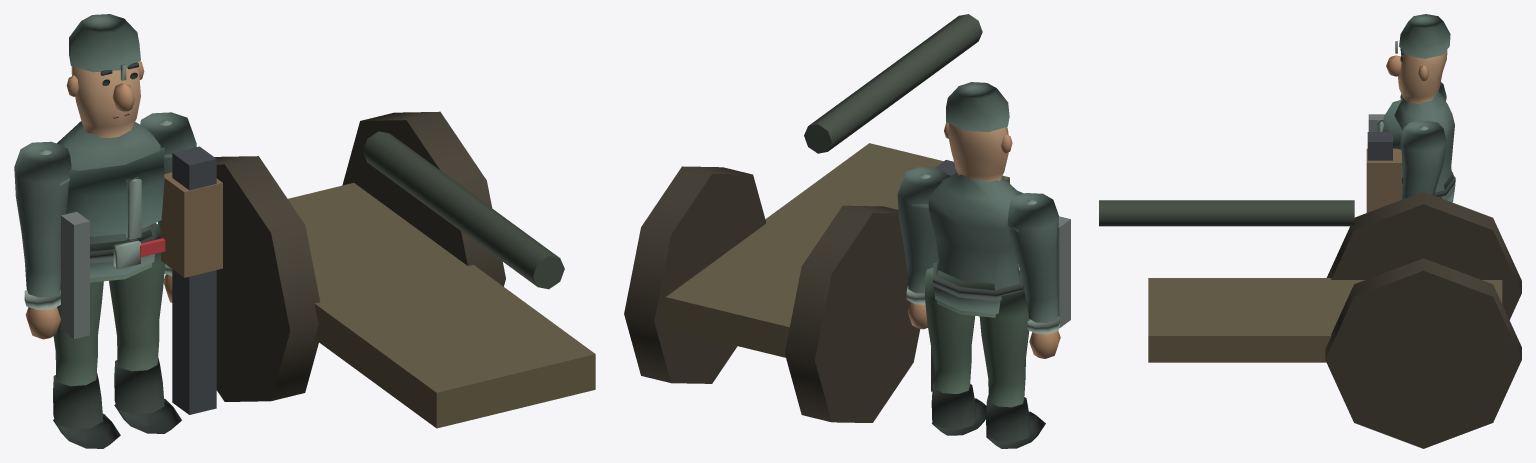
The model's file is machinegun_team_team1.glb.
The picture shows the model from 3 angles, left to right: view 1: azimuth 30°, elevation 25°; view 2: azimuth 150°, elevation 25°; view 3: azimuth 270°, elevation 25°; orthographic projection. The views are drawn at different scales.
Visible parts, largest first — view 1: part_10, part_11, part_0, part_12, part_13, part_2, part_8, part_5, part_1, part_7, part_6, part_3 (+1 smaller); view 2: part_11, part_10, part_12, part_0, part_13, part_7, part_2, part_8, part_1, part_4, part_3; view 3: part_12, part_10, part_11, part_13, part_1, part_4, part_0, part_6, part_5.
Boxes of the visible parts, left/top/right/bottom form: part_10: left=288, top=183, right=595, bottom=428; part_11: left=214, top=156, right=320, bottom=401; part_0: left=57, top=121, right=164, bottom=282; part_12: left=342, top=111, right=505, bottom=286; part_13: left=362, top=131, right=564, bottom=289; part_2: left=14, top=141, right=71, bottom=339; part_8: left=109, top=224, right=181, bottom=433; part_5: left=172, top=146, right=216, bottom=414; part_1: left=66, top=14, right=144, bottom=137; part_7: left=53, top=281, right=120, bottom=448; part_6: left=161, top=172, right=222, bottom=277; part_3: left=61, top=211, right=89, bottom=338; part_11: left=784, top=205, right=920, bottom=422; part_10: left=665, top=143, right=1009, bottom=357; part_12: left=624, top=166, right=766, bottom=383; part_0: left=928, top=172, right=1023, bottom=317; part_13: left=804, top=14, right=982, bottom=153; part_7: left=979, top=287, right=1045, bottom=448; part_2: left=1007, top=193, right=1060, bottom=358; part_8: left=925, top=267, right=986, bottom=435; part_1: left=944, top=82, right=1012, bottom=182; part_4: left=897, top=167, right=947, bottom=329; part_3: left=1057, top=216, right=1070, bottom=328; part_12: left=1325, top=258, right=1521, bottom=448; part_10: left=1148, top=278, right=1502, bottom=362; part_11: left=1326, top=191, right=1521, bottom=319; part_13: left=1099, top=200, right=1354, bottom=226; part_1: left=1386, top=14, right=1450, bottom=104; part_4: left=1400, top=120, right=1446, bottom=199; part_0: left=1377, top=91, right=1455, bottom=202; part_6: left=1366, top=148, right=1401, bottom=212; part_5: left=1367, top=132, right=1392, bottom=160.
Size of the model in its own units: 1.86 by 1.71 by 2.15.
